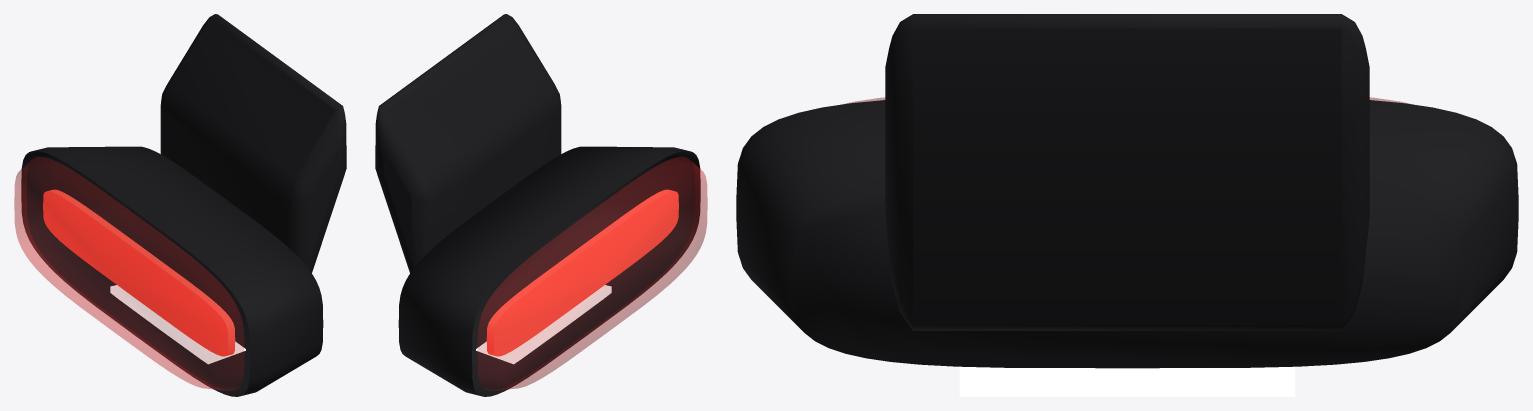
The model's file is hanger.glb.
The picture shows the model from 3 angles, left to right: view 1: azimuth 30°, elevation 25°; view 2: azimuth 150°, elevation 25°; view 3: azimuth 270°, elevation 25°; orthographic projection. The views are drawn at different scales.
Parts seen in each view (by area): view 1: tail_light_hanger; view 2: tail_light_hanger; view 3: tail_light_hanger.
Part boxes in pixels (x1=…): tail_light_hanger: x1=14, y1=14, x2=346, y2=396; tail_light_hanger: x1=375, y1=14, x2=707, y2=396; tail_light_hanger: x1=736, y1=14, x2=1518, y2=396.
Bounding box in the file's own units: 0.036 × 0.0533 × 0.084.
